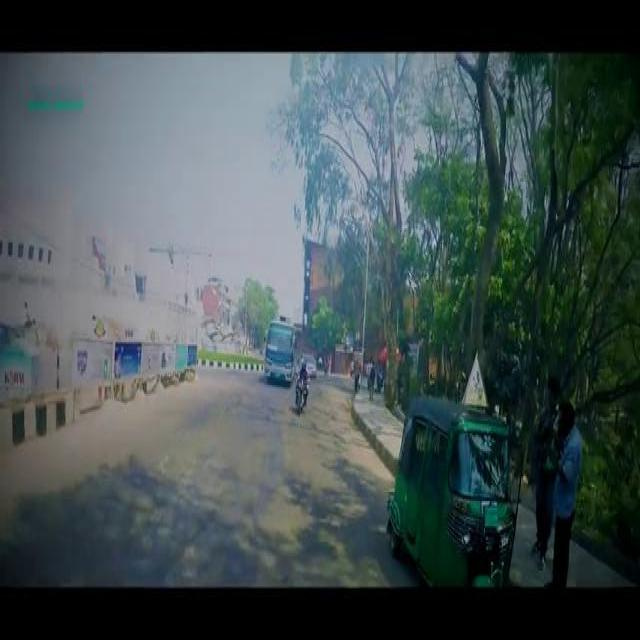bus: (262, 317, 294, 380)
car: (300, 350, 316, 376)
motorbike: (293, 372, 307, 411)
three wheelers -CNG-: (387, 394, 521, 587)
